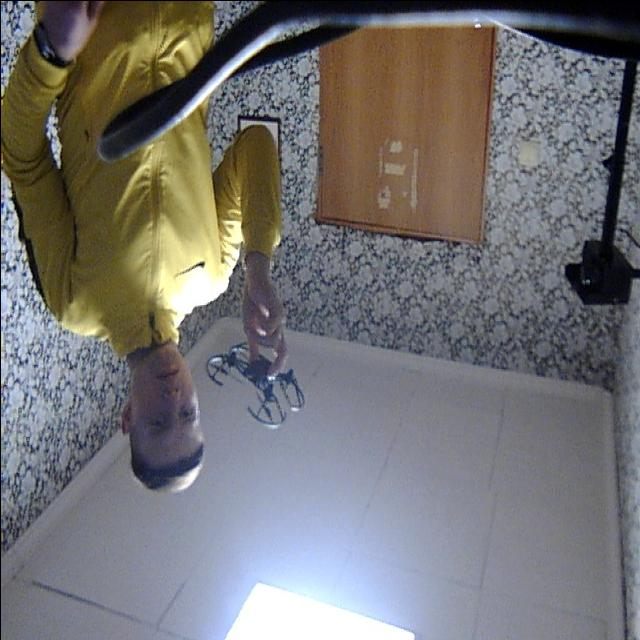drone: (196, 328, 308, 444)
